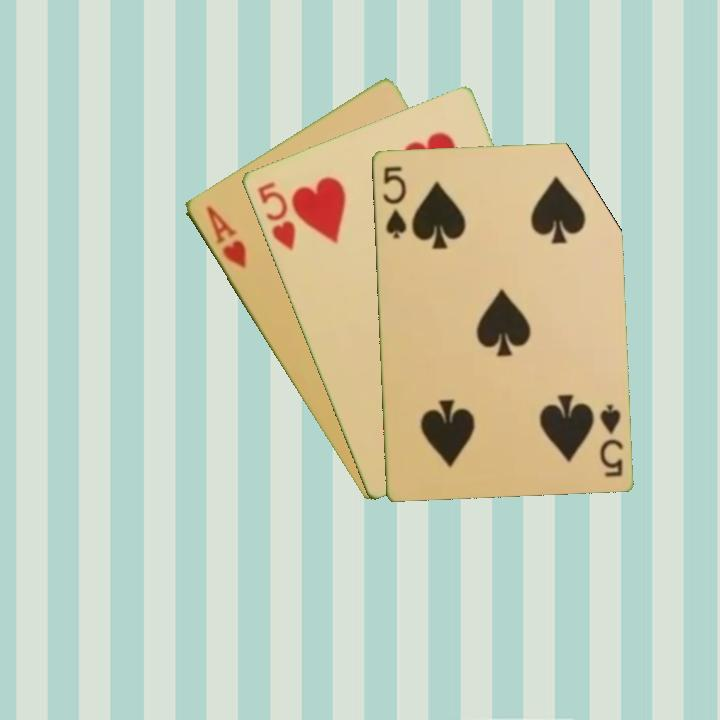5h: (253, 178, 299, 253)
5s: (379, 162, 409, 241), (595, 400, 625, 479)
Ah: (201, 202, 249, 271)
